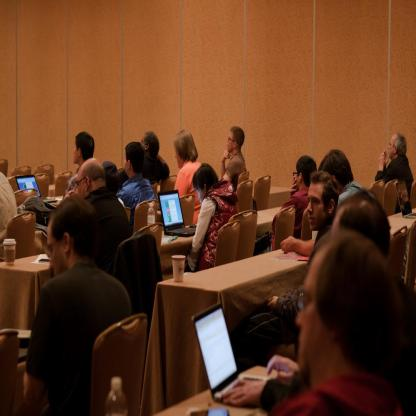board: (191, 301, 271, 410), (157, 189, 196, 237), (15, 172, 58, 205), (395, 178, 416, 221)
